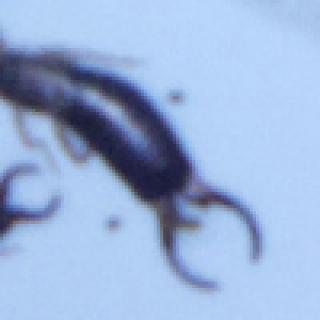earwig: (0, 35, 268, 294)
